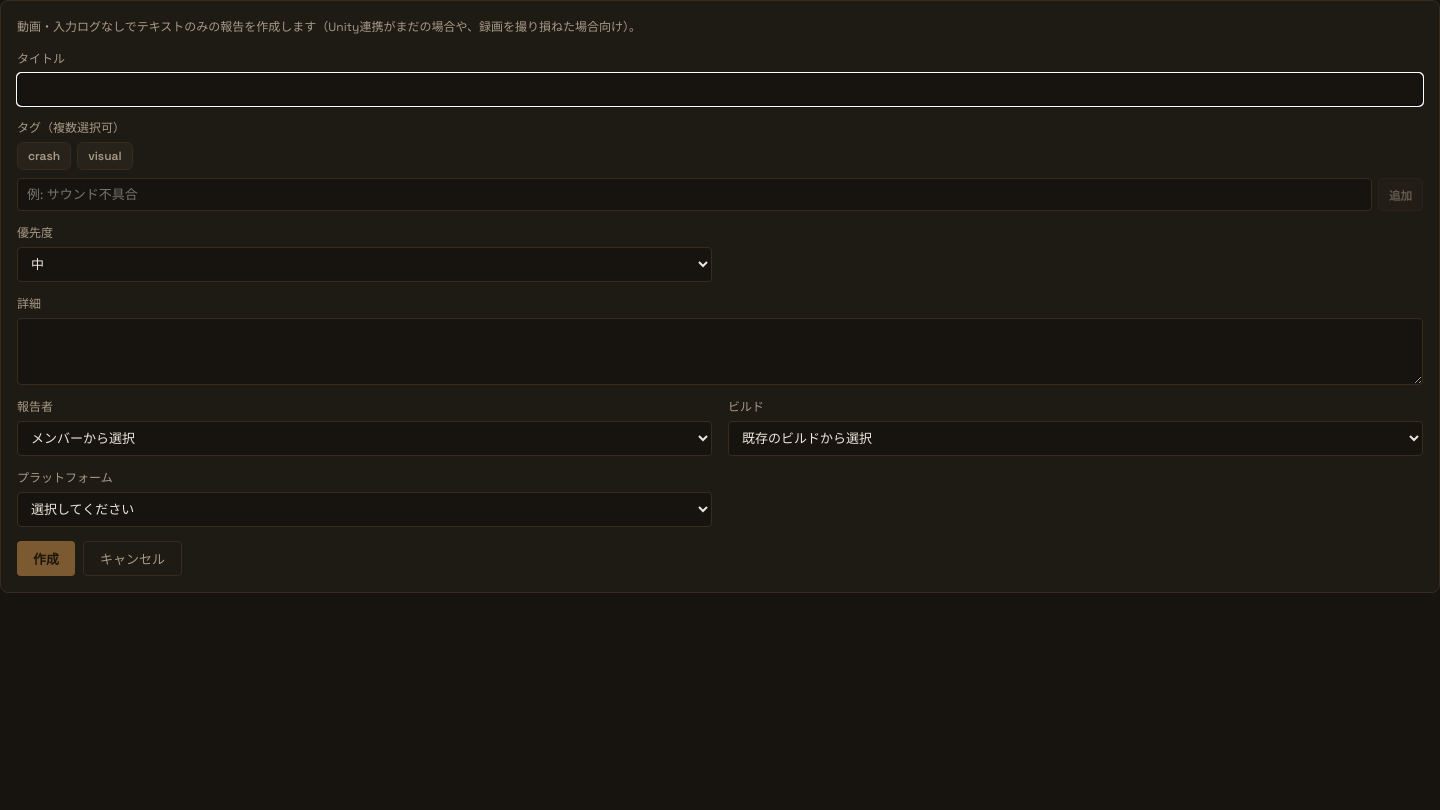
Test: NewReportForm build/who/platform combo fields › adding a custom 種類 tag does not submit the surrounding form (regression: nested <form>)
Type "テストタイトル" into the field labelled "タイトル" at (720, 90), box top-left (17, 73), bottom-right (1423, 106)
Type "テスト詳細" into the text box at (720, 352), box top-left (17, 318), bottom-right (1423, 385)
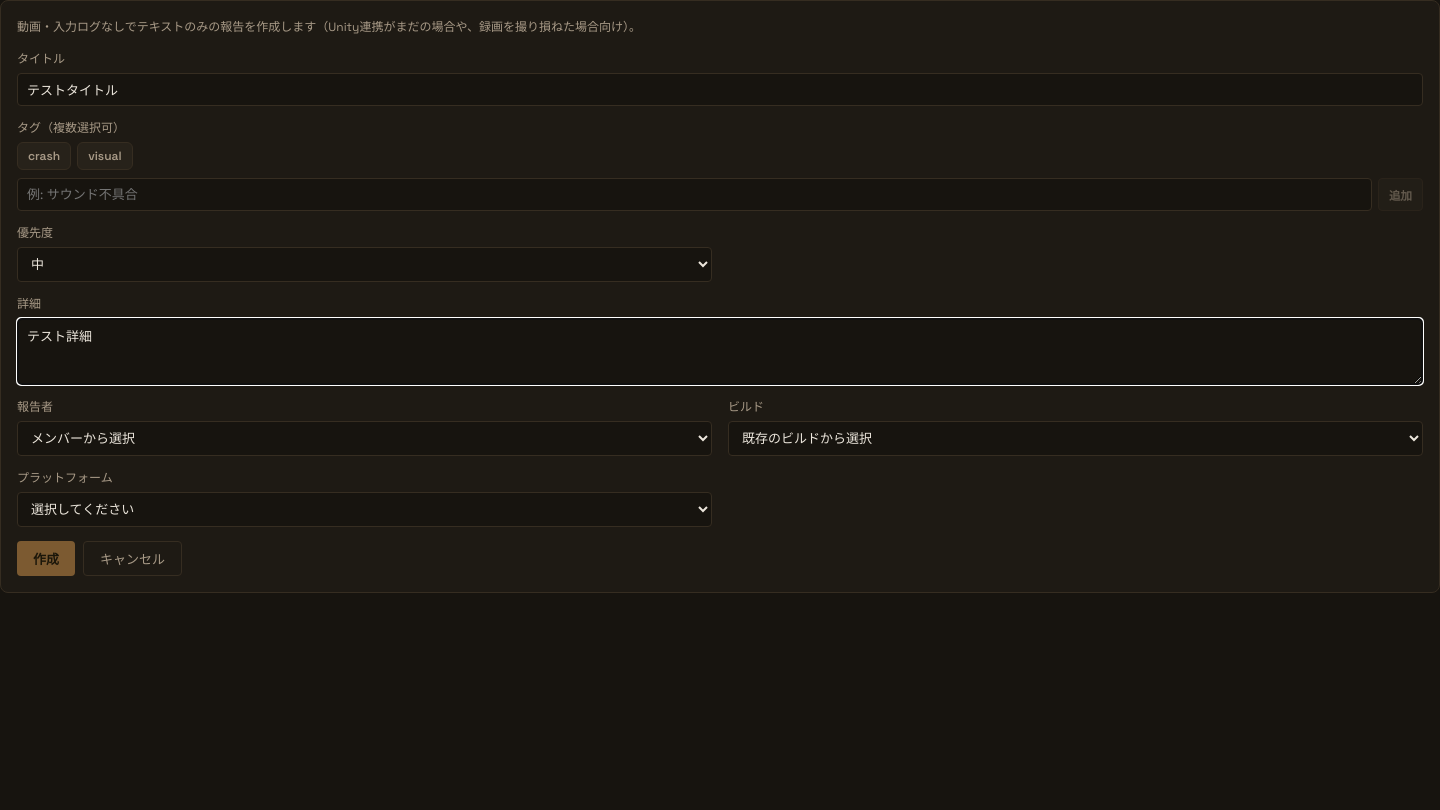
Click the button "crash" at (44, 156), box top-left (17, 142), bottom-right (71, 170)
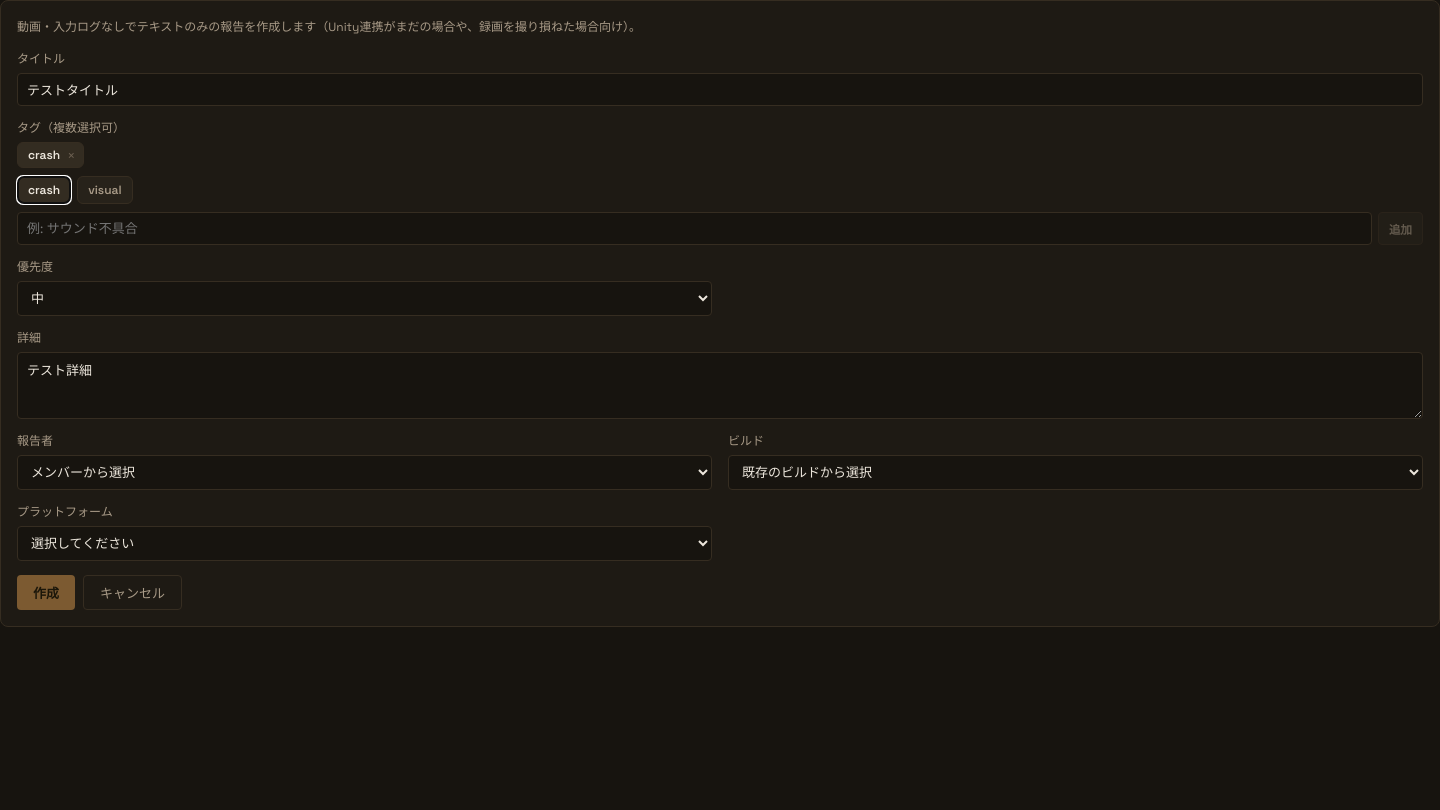
Select "アリス" in the dropdown showing "メンバーから選択" at (364, 472), box top-left (17, 455), bottom-right (712, 490)
Select "0.1.0" in the dropdown showing "既存のビルドから選択" at (1076, 472), box top-left (728, 455), bottom-right (1423, 490)
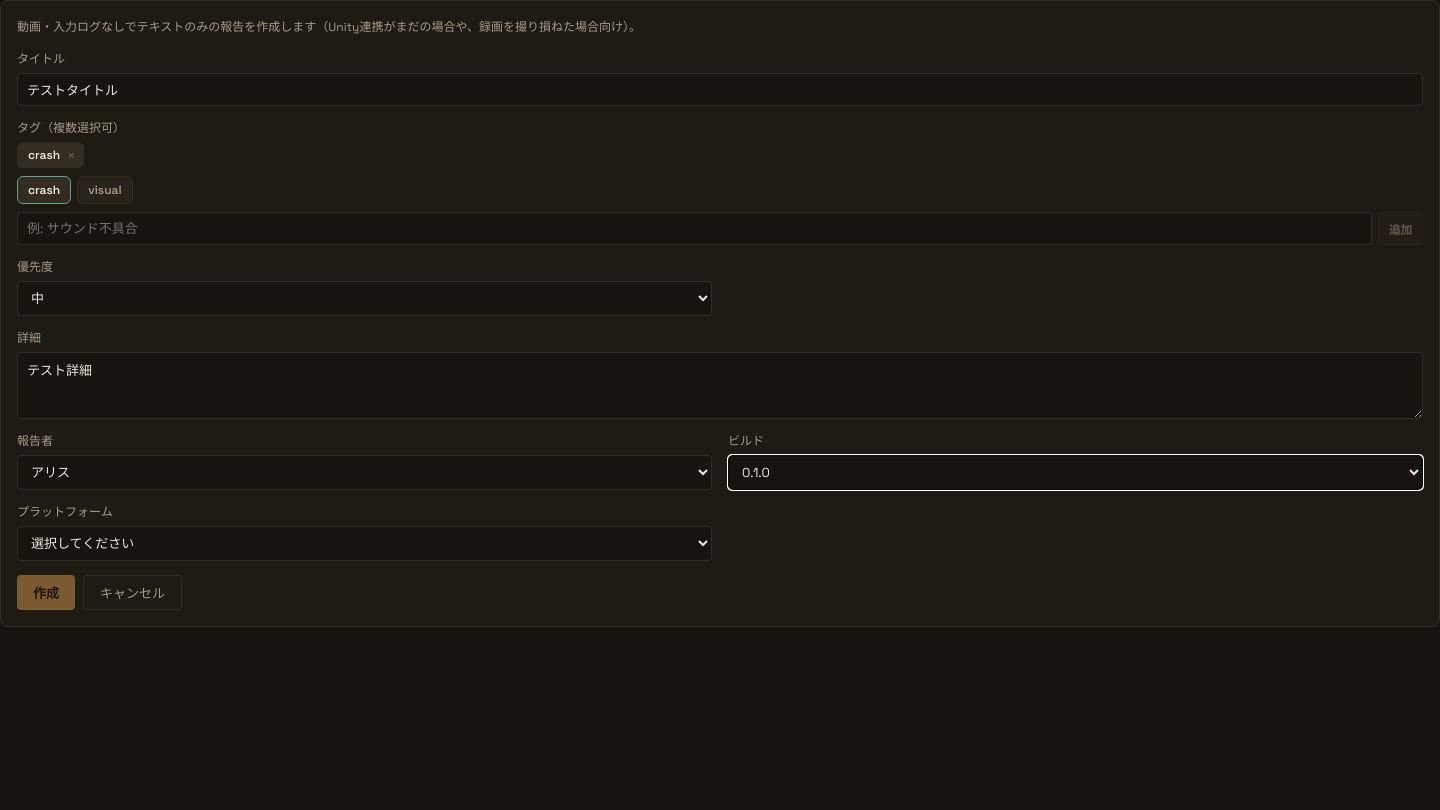
Select "PC" in the dropdown showing "選択してください" at (364, 544), box top-left (17, 526), bottom-right (712, 561)
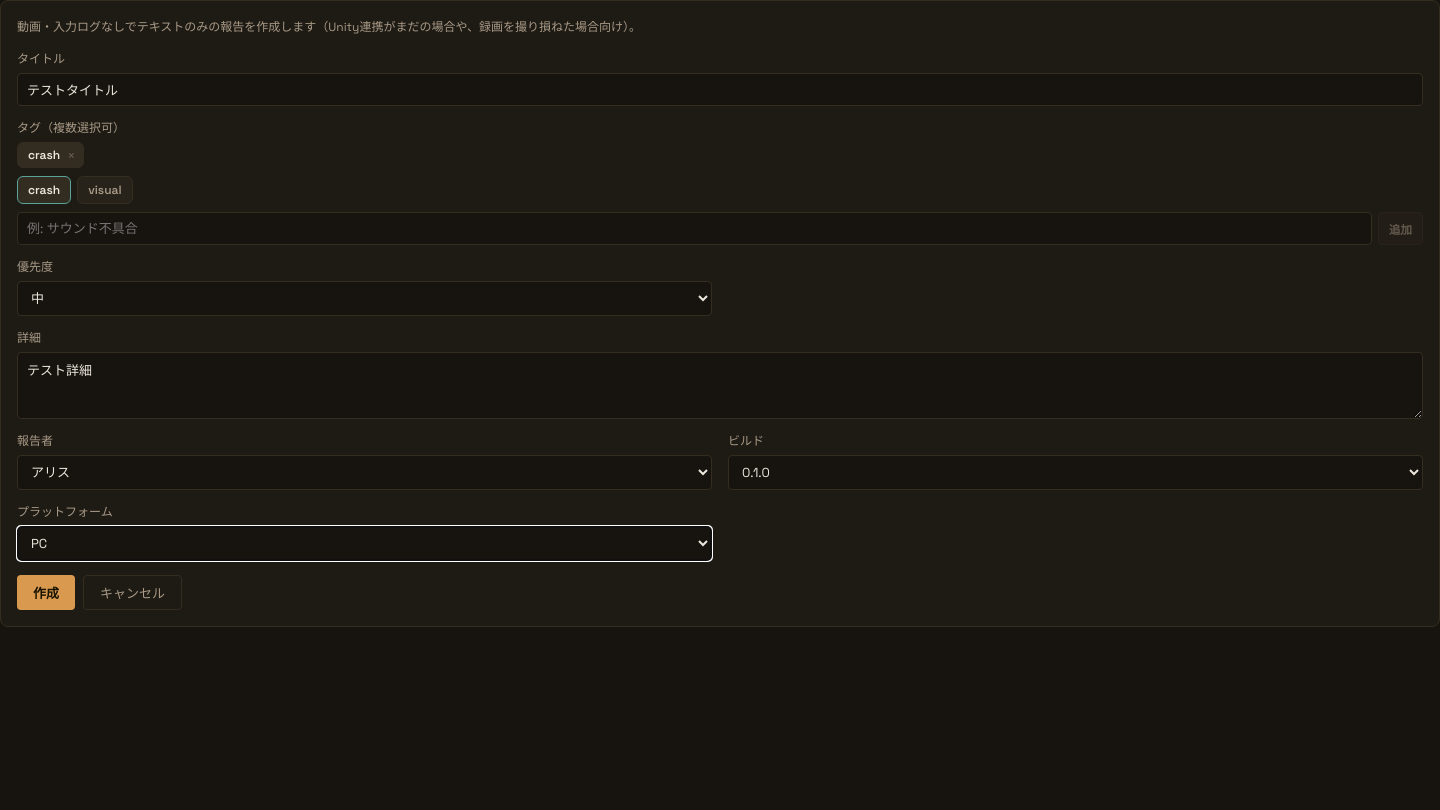
Type "サウンド不具合" into the field with placeholder "例: サウンド不具合" at (694, 228), box top-left (17, 212), bottom-right (1372, 245)
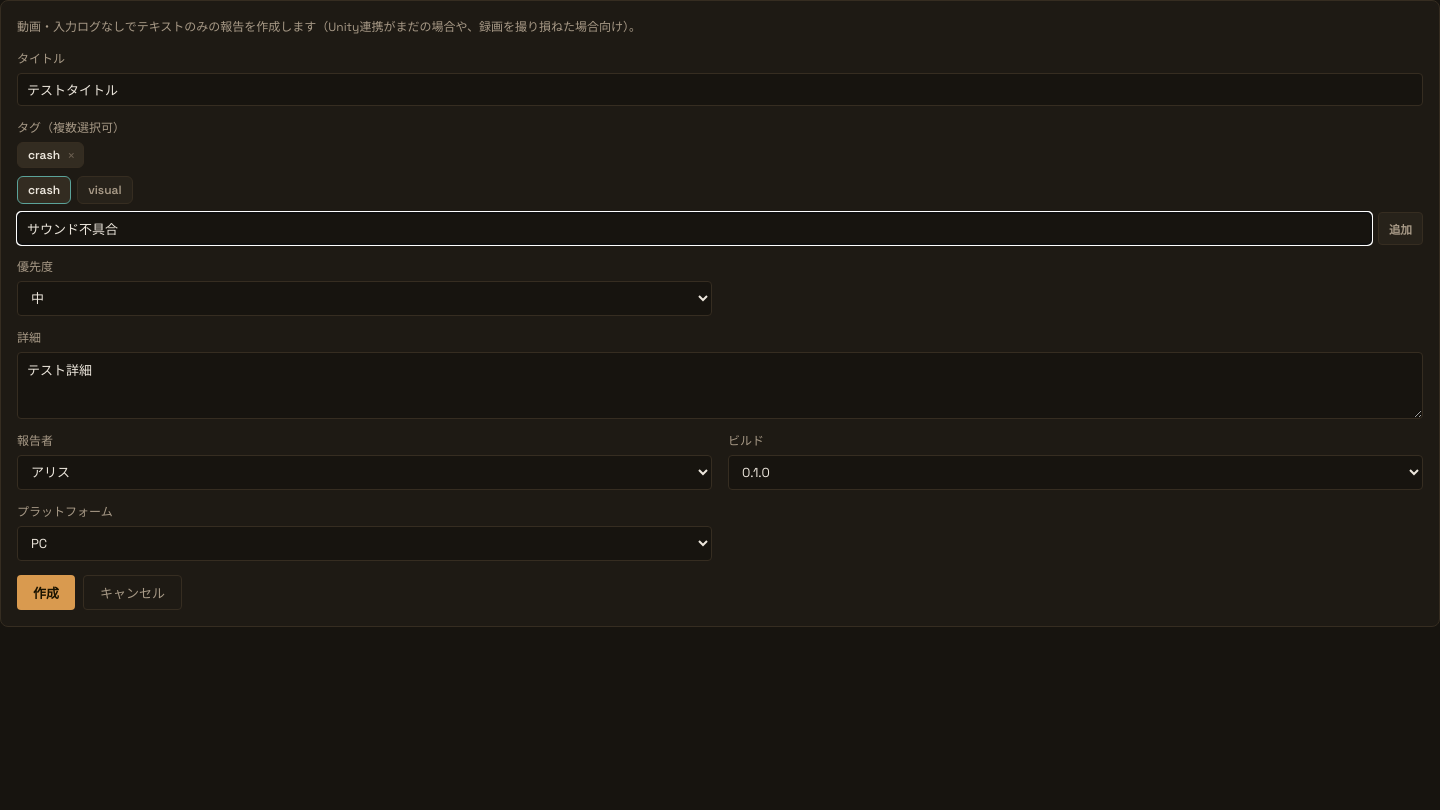
Click the button "追加" at (1400, 228), box top-left (1378, 212), bottom-right (1423, 245)
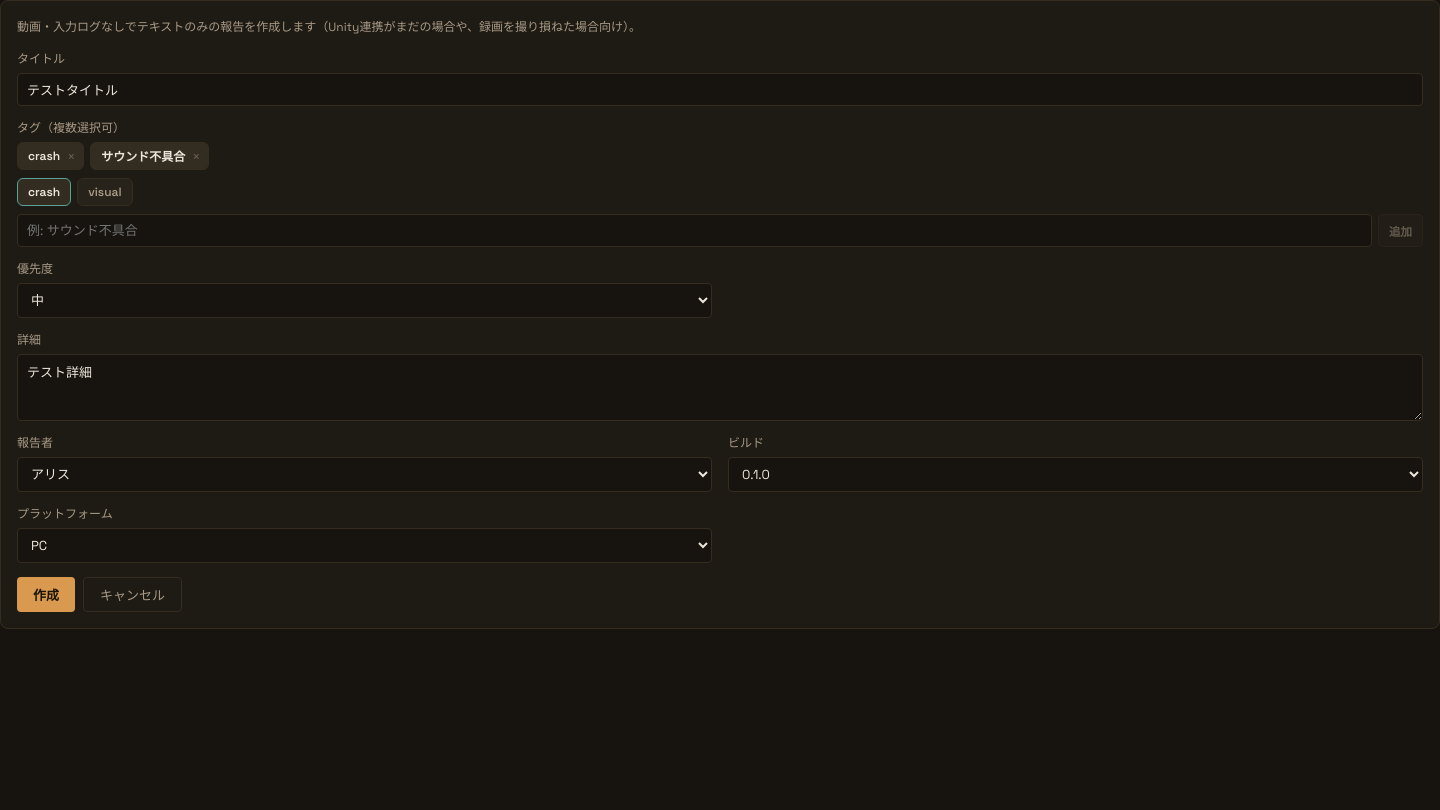
Check: the text "サウンド不具合" is shown, box top-left (101, 149), bottom-right (185, 165)
